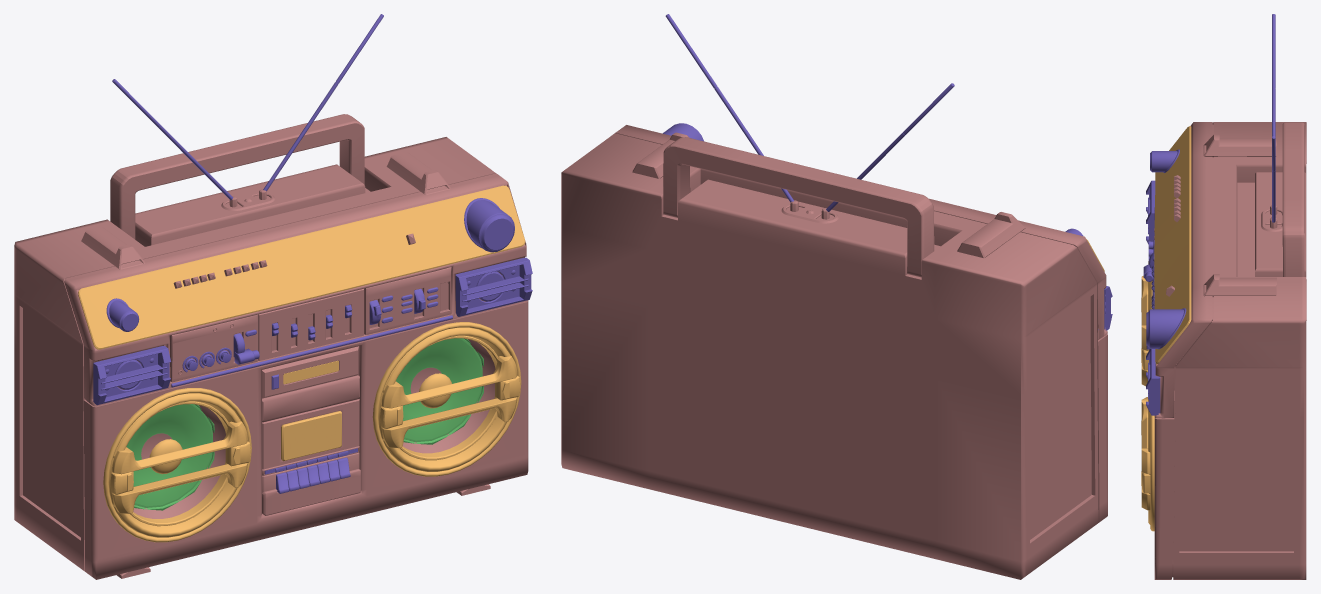
The model's file is boom_box.glb.
The picture shows the model from 3 angles, left to right: view 1: azimuth 30°, elevation 25°; view 2: azimuth 150°, elevation 25°; view 3: azimuth 270°, elevation 25°; orthographic projection. The views are drawn at different scales.
Visible parts, largest first — view 1: glass_03; view 2: glass_03; view 3: glass_03.
Boxes of the visible parts, x1,y1,x2,y2 form: glass_03: [14, 14, 532, 579]; glass_03: [561, 14, 1112, 579]; glass_03: [1141, 14, 1306, 579].
Size of the model in its own units: 0.1736 by 0.1693 by 0.0609.
